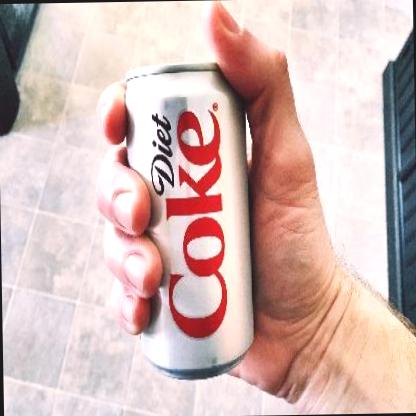alumunium_can: (121, 59, 256, 383)
